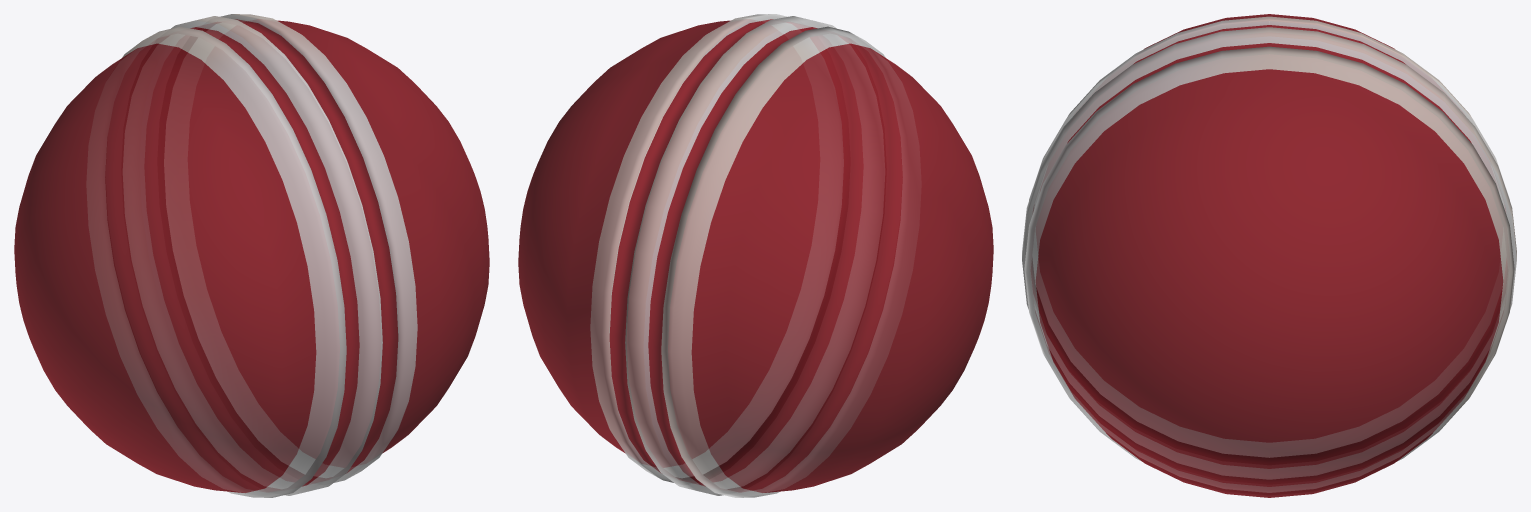
The model's file is cricketball.glb.
3 views of the same model, side by side, from view 1: azimuth 30°, elevation 25°; view 2: azimuth 150°, elevation 25°; view 3: azimuth 270°, elevation 25° (orthographic).
Parts seen in each view (by area): view 1: Sphere; view 2: Sphere; view 3: Sphere.
Part boxes in pixels (bbox=[...]): Sphere: bbox=[14, 14, 489, 497]; Sphere: bbox=[518, 14, 993, 497]; Sphere: bbox=[1022, 14, 1516, 497].
Bounding box in the file's own units: 2 × 2.04 × 2.04.
